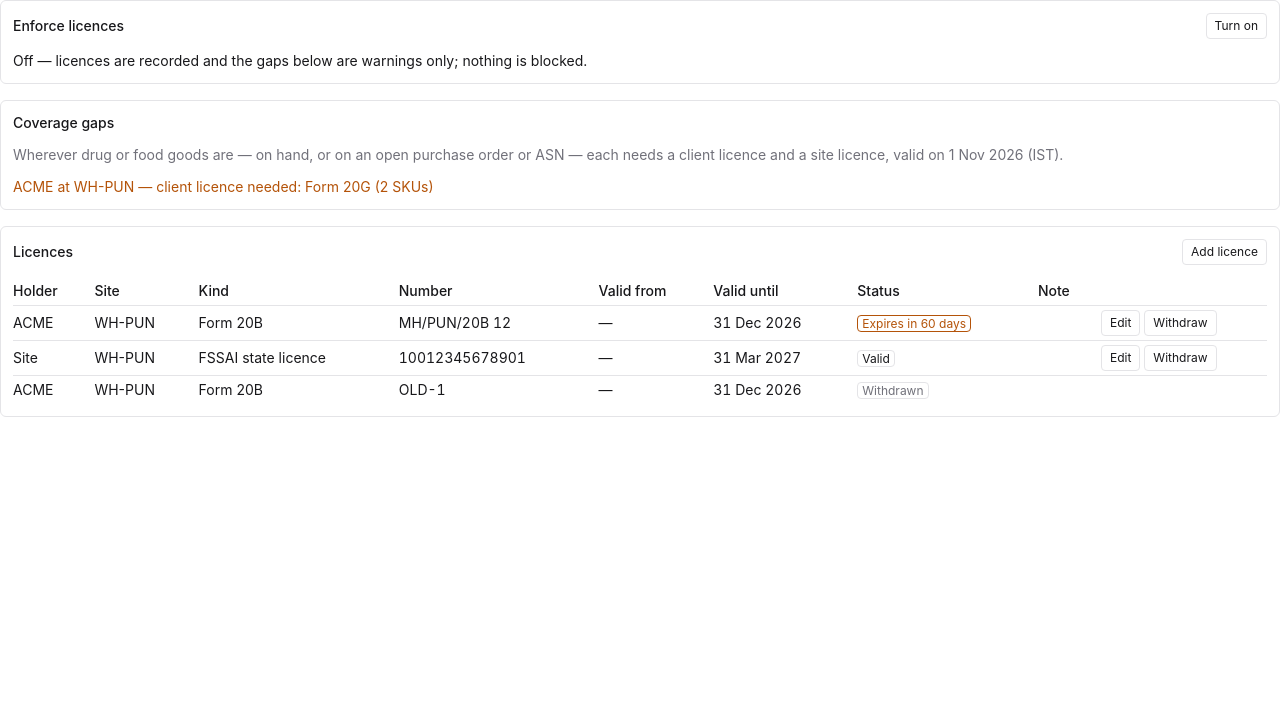
Scenario: Licences › Withdraw confirms, then sends the withdraw verb with a key
Click the button with aria-label "Withdraw MH/PUN/20B 12": (1180, 323) [1144, 310, 1217, 336]
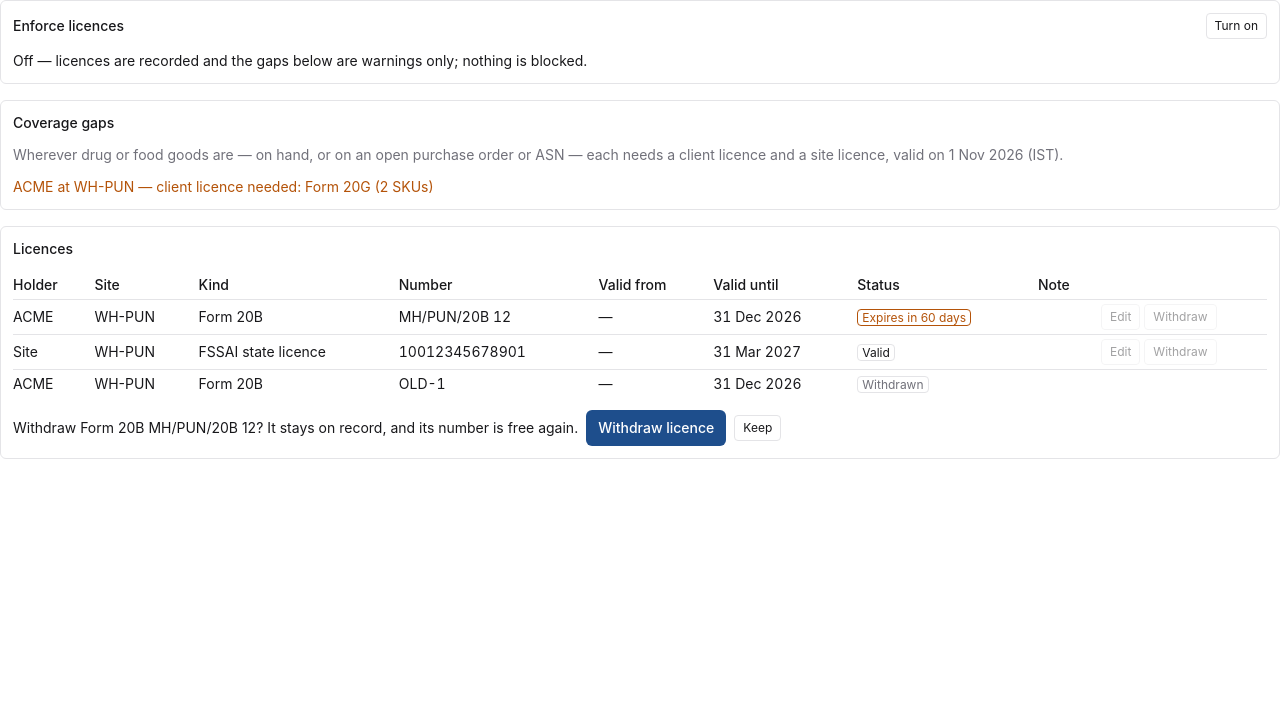
Expected: the button "Withdraw licence" is shown
Click the button "Withdraw licence": (656, 428) [586, 410, 726, 446]
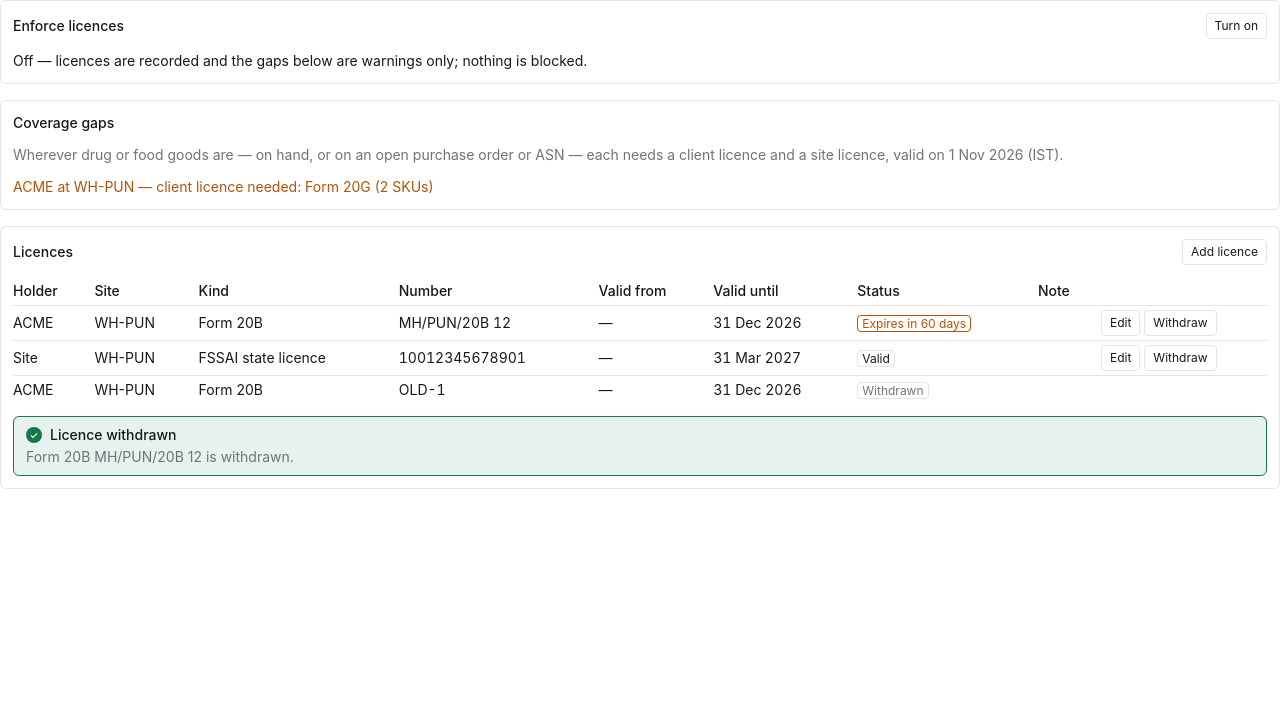
Expected: the text "Licence withdrawn" is shown, [50, 426, 176, 443]
